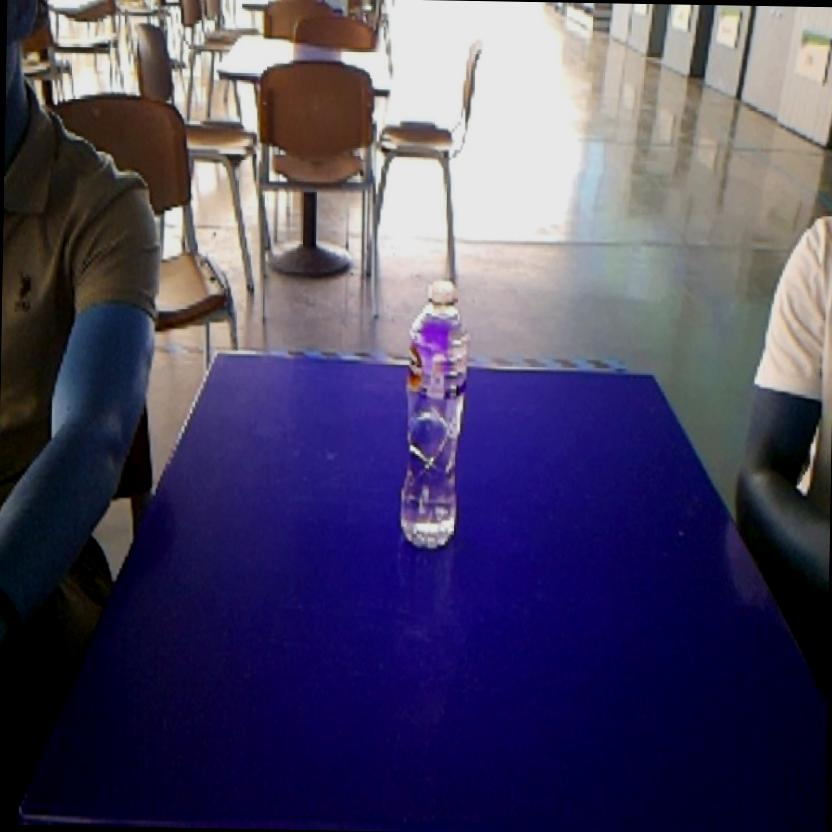no_cap: (389, 269, 478, 562)
